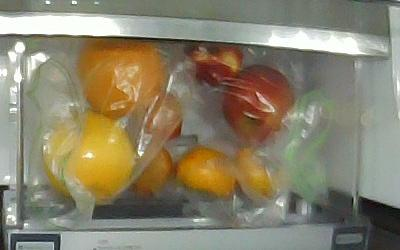apple_vinyl: (223, 65, 294, 142), (183, 44, 242, 87)
grapefruit_vinyl: (44, 109, 136, 204), (78, 38, 167, 119)
persimmon_vinyl: (176, 146, 235, 199), (234, 147, 279, 203)
prune_vinyl: (128, 143, 173, 197), (135, 94, 182, 139)
